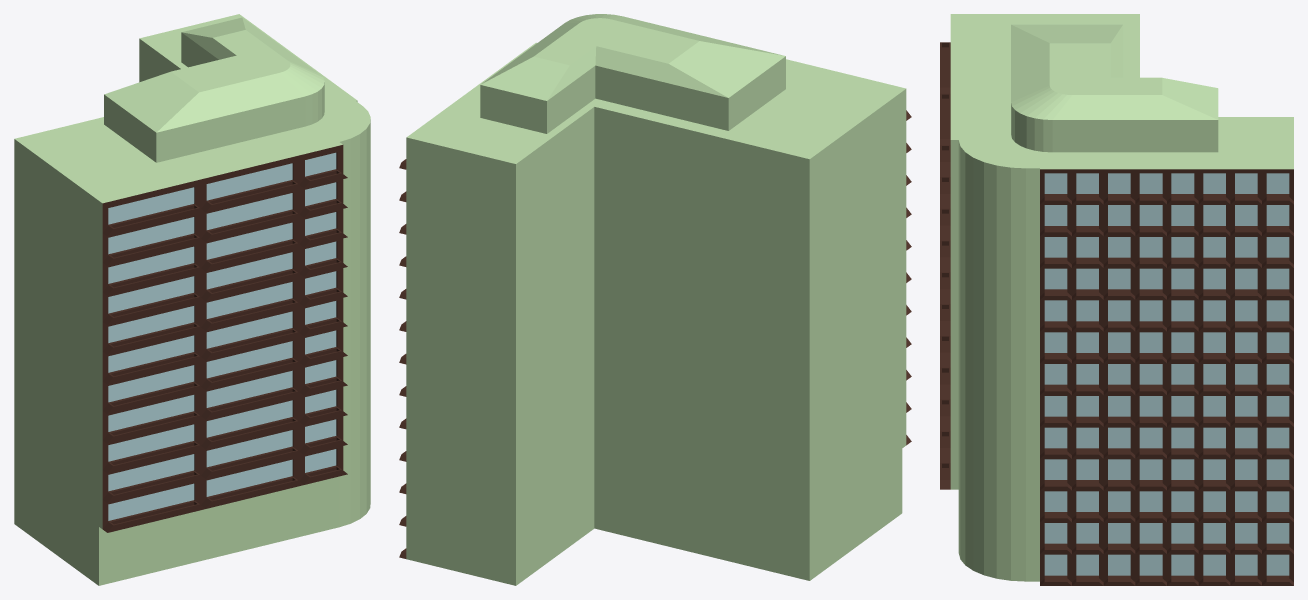
Rendered from Big Boi Green.fbx.
3 renders of one model, left to right at view 1: azimuth 30°, elevation 25°; view 2: azimuth 150°, elevation 25°; view 3: azimuth 270°, elevation 25°, orthographic. The views are drawn at different scales.
Visible parts, largest first — view 1: Cube; view 2: Cube; view 3: Cube.
Boxes of the visible parts, x1,y1,x2,y2 form: Cube: (14,14,370,585); Cube: (399,14,911,585); Cube: (940,14,1293,585).
Bounding box in the file's own units: 6221 × 8379 × 5856.
